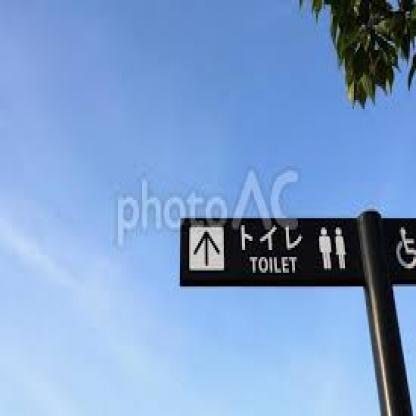toilet: (314, 224, 352, 274)
